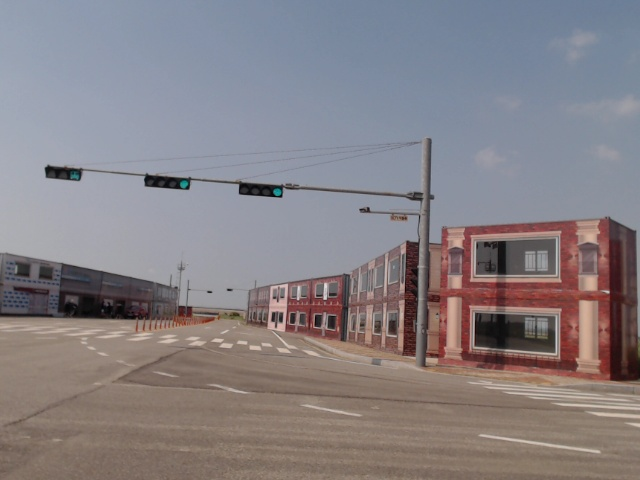straight_green_4: (237, 183, 283, 199), (145, 175, 189, 190)
